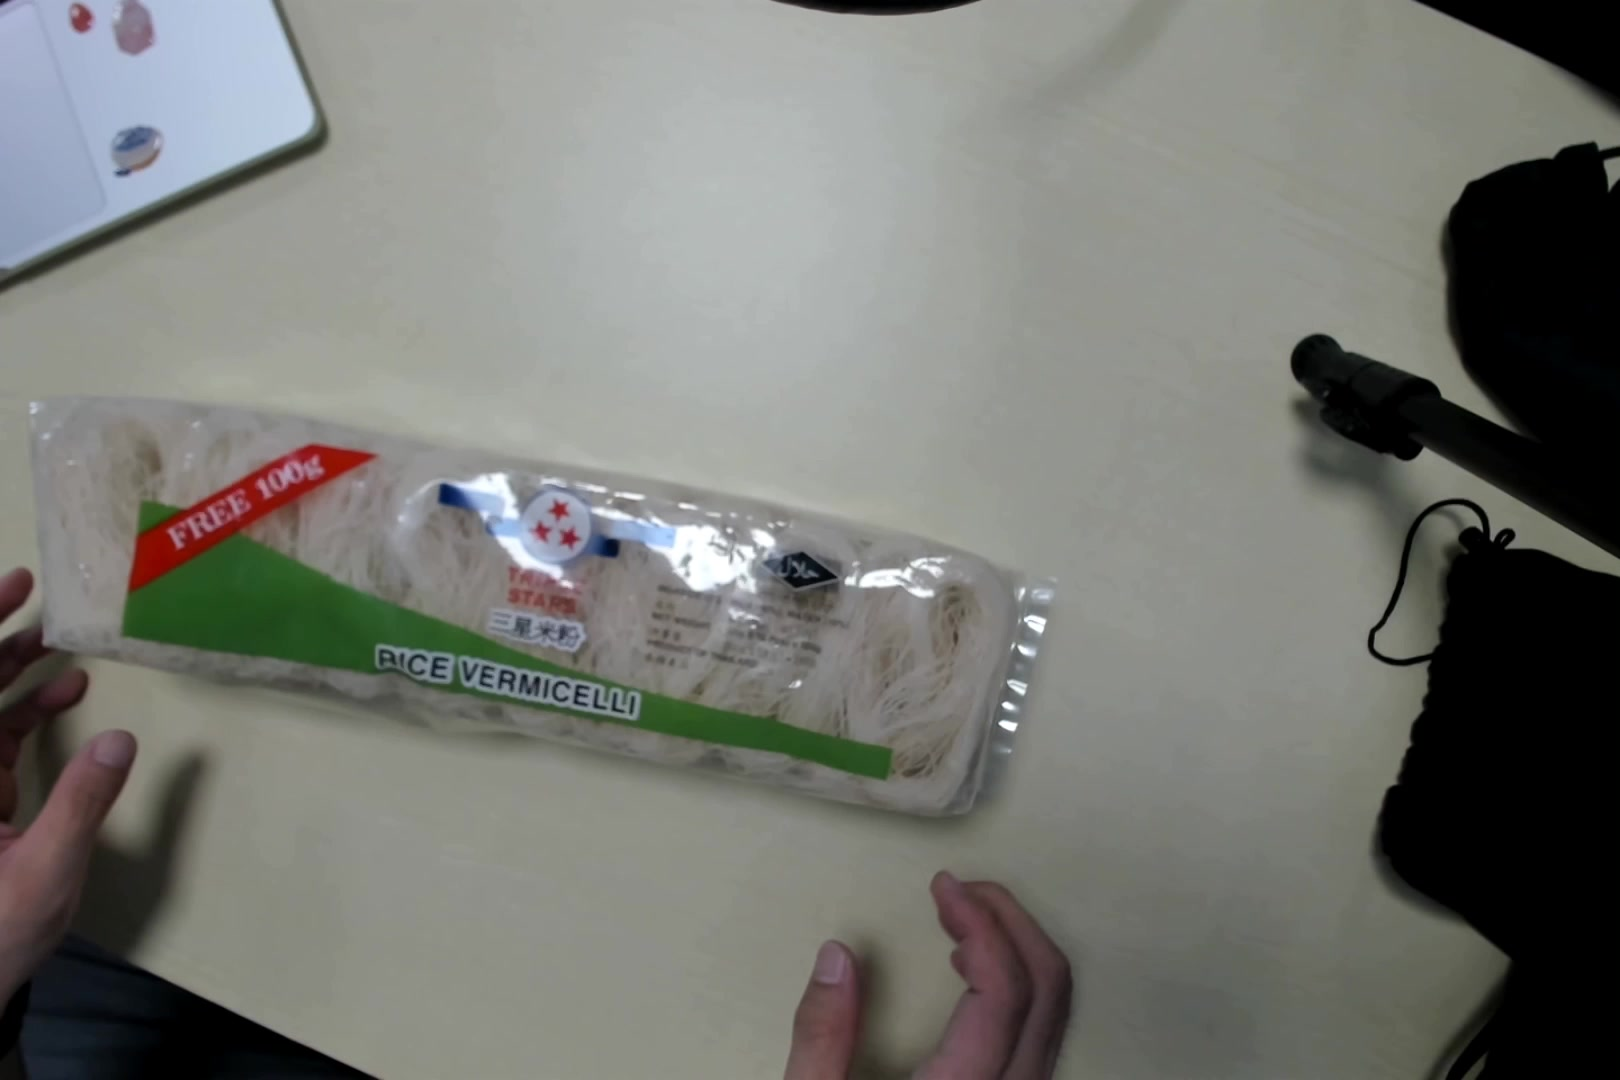BeeHoonVermicelliMeeSua_600-699g_Halal_NonHealthy: (27, 394, 1016, 822)
